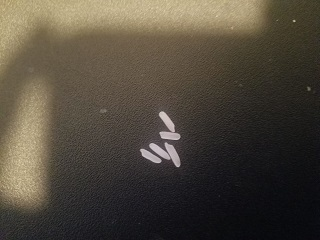egg: (164, 141, 181, 168), (148, 142, 172, 160), (158, 110, 175, 132), (139, 148, 161, 162), (158, 129, 180, 140)
